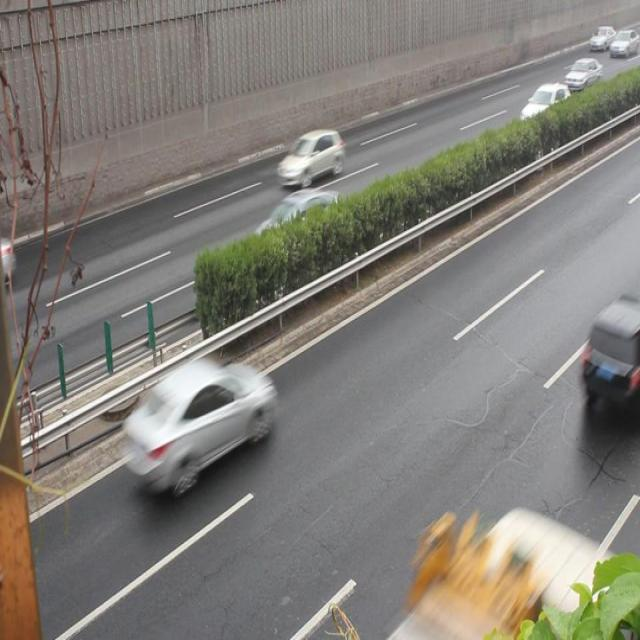bus: (397, 511, 613, 640)
car: (121, 359, 274, 492), (252, 189, 344, 270), (278, 130, 343, 190), (518, 84, 572, 136)
